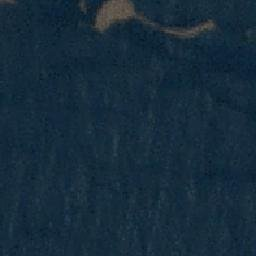debris: (92, 1, 138, 33), (169, 18, 217, 38), (140, 17, 172, 31), (77, 1, 90, 14), (242, 28, 252, 41)
